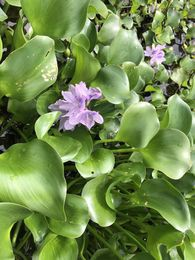water_hyacinth: (0, 1, 194, 260)
